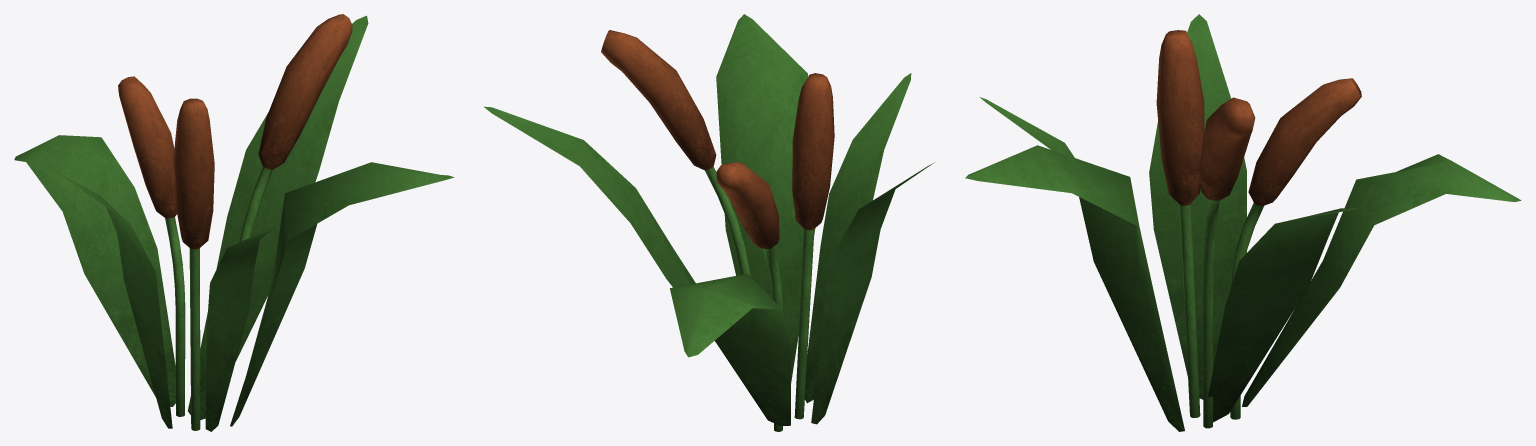
File: Vass.fbx
The picture shows the model from 3 angles, left to right: view 1: azimuth 30°, elevation 25°; view 2: azimuth 150°, elevation 25°; view 3: azimuth 270°, elevation 25°; orthographic projection. The views are drawn at different scales.
Parts seen in each view (by area): view 1: Vass; view 2: Vass; view 3: Vass.
Part boxes in pixels (box(x1,y1,x2,y2)): Vass: box(14, 14, 454, 431); Vass: box(484, 14, 934, 431); Vass: box(965, 14, 1521, 431).
Size of the model in its own units: 1466 by 1322 by 1649.
